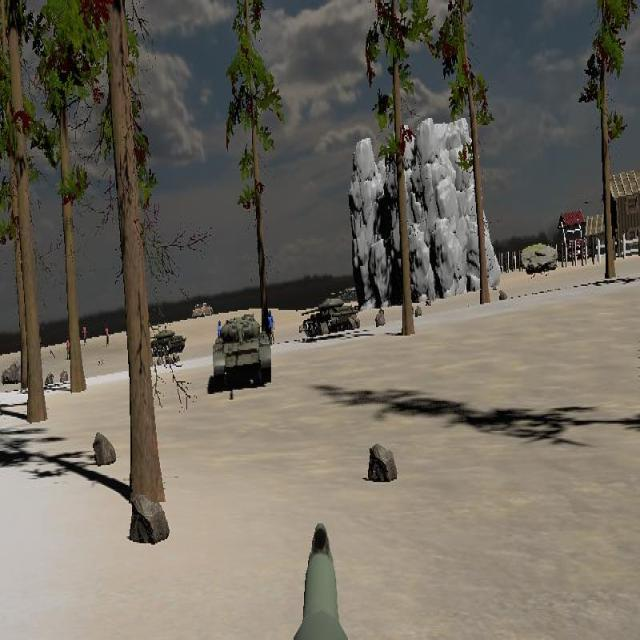Tank: (213, 314, 272, 388), (297, 295, 359, 337), (145, 328, 187, 355)
